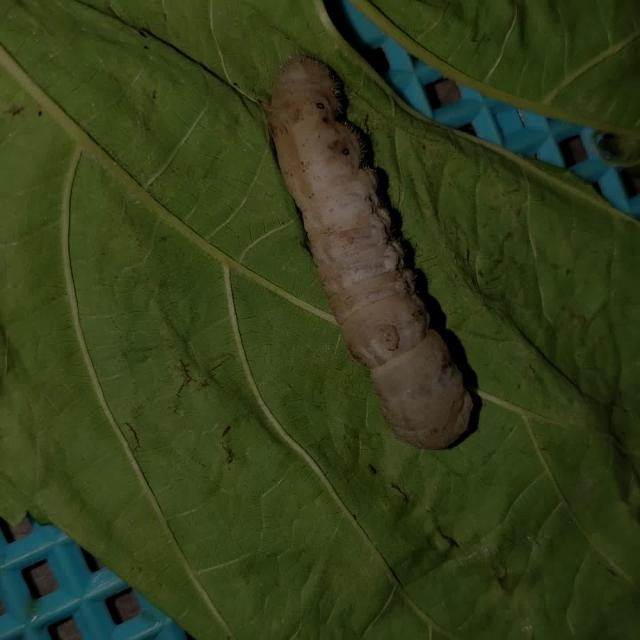Grasserie: (248, 38, 509, 460)
